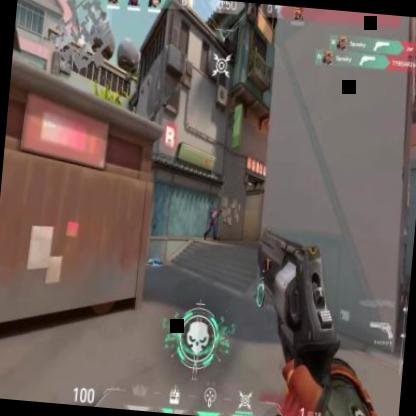enemy: (204, 202, 223, 242)
enemy_head: (214, 204, 217, 210)
